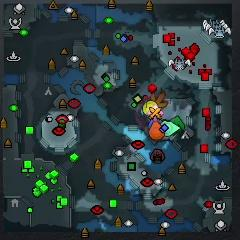Other: (148, 105, 164, 120)
p1: (148, 118, 161, 128)
p2: (160, 120, 180, 136)
p4: (143, 101, 158, 116)
p5: (149, 121, 164, 141)
x4: (169, 115, 185, 129)
x5: (151, 91, 167, 108)
